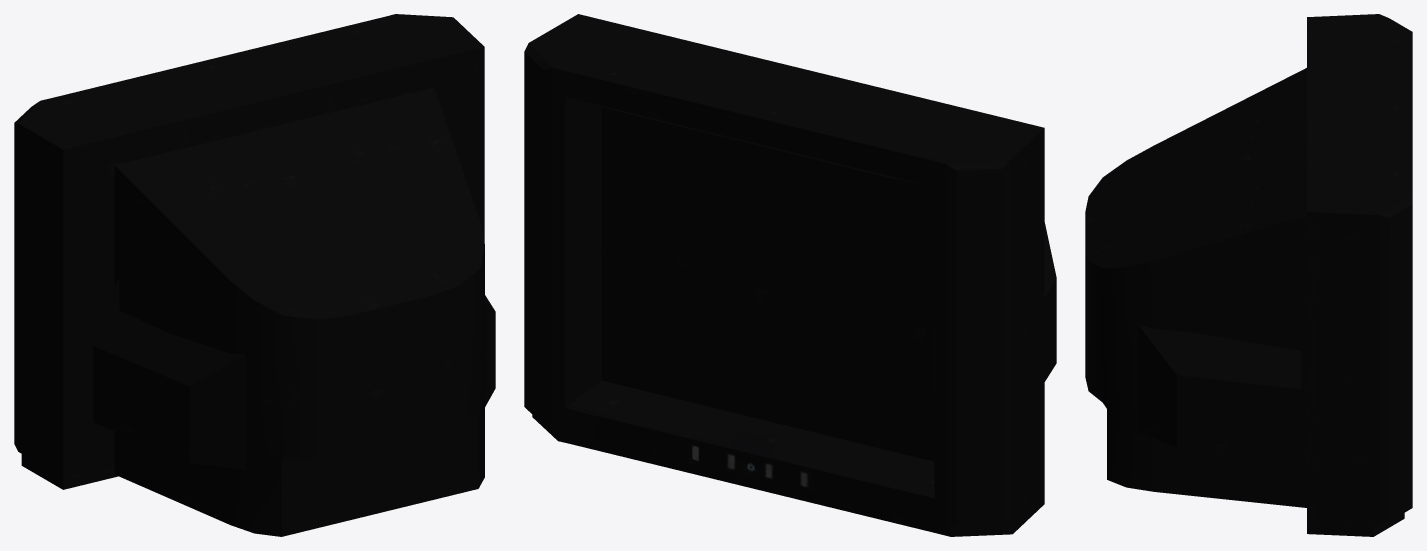
The model's file is crt.glb.
3 views of the same model, side by side, from view 1: azimuth 30°, elevation 25°; view 2: azimuth 150°, elevation 25°; view 3: azimuth 270°, elevation 25° (orthographic). The views are drawn at different scales.
Visible parts, largest first — view 1: defaultMaterial.013; view 2: defaultMaterial.013; view 3: defaultMaterial.013.
Boxes of the visible parts, x1,y1,x2,y2 form: defaultMaterial.013: (14, 14, 495, 536); defaultMaterial.013: (524, 14, 1056, 536); defaultMaterial.013: (1085, 14, 1412, 536).
Size of the model in its own units: 2.18 by 1.63 by 1.5.
Materials: 1 (1 with a texture image).
